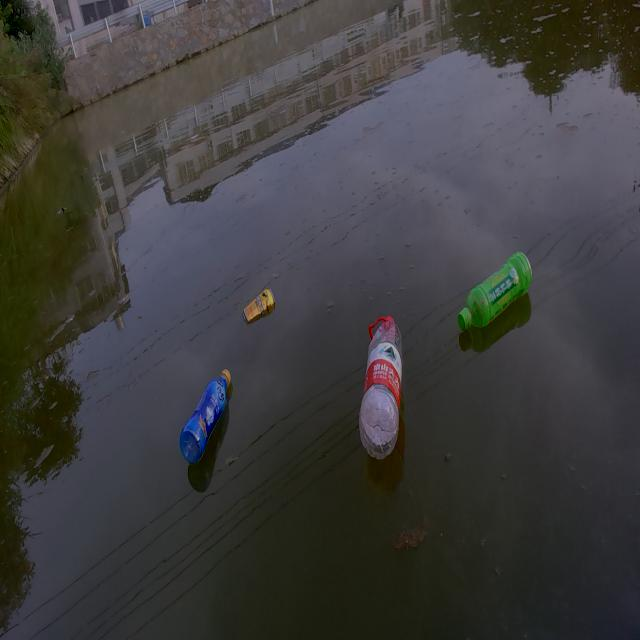bottle: (437, 212, 554, 362), (340, 288, 418, 471), (162, 342, 245, 478)
